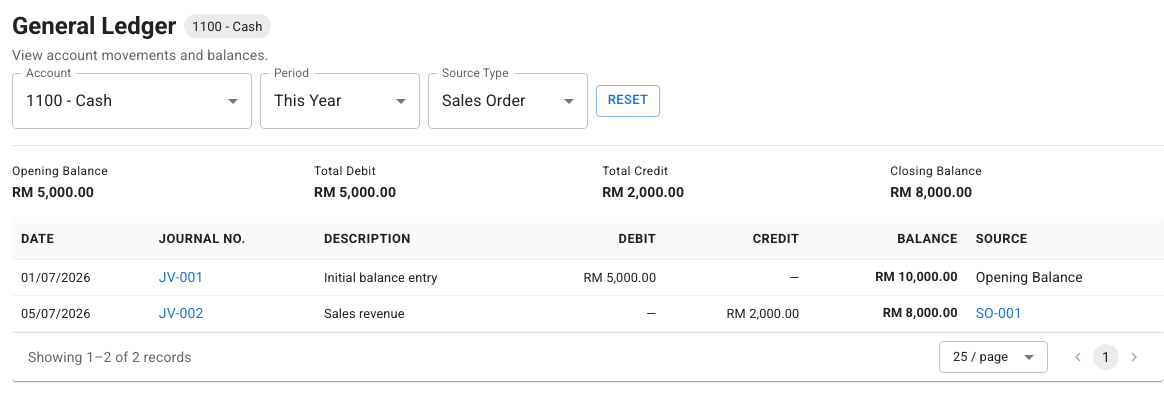
Test: GeneralLedgerPage › resets every filter and clears the managed params from the URL
Click the button "Reset": (628, 101) [596,85,660,117]
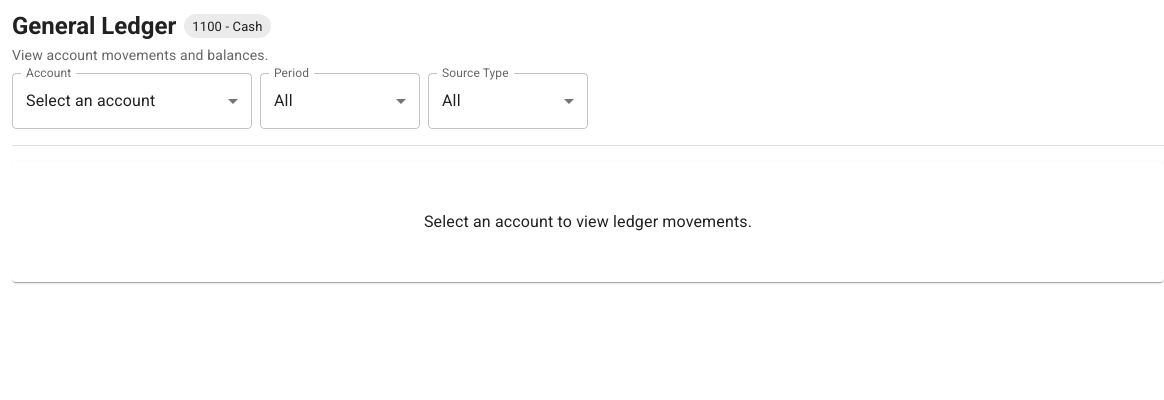
Expected: the text "Select an account to view ledger movements." is shown, [424,212,752,231]
